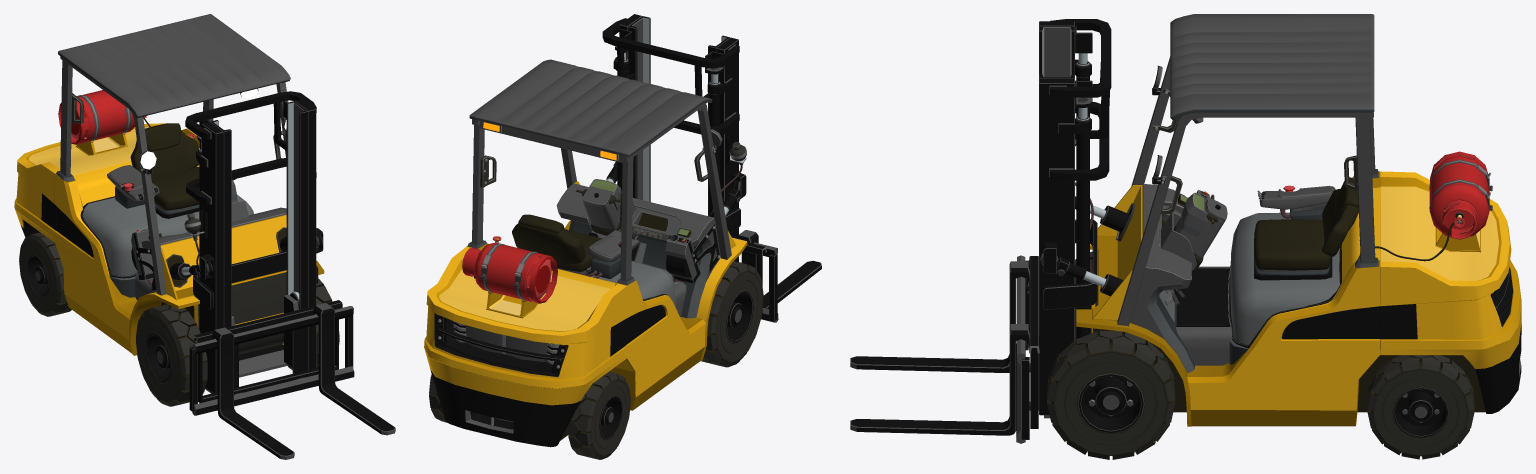
The model's file is lifter.glb.
The picture shows the model from 3 angles, left to right: view 1: azimuth 30°, elevation 25°; view 2: azimuth 150°, elevation 25°; view 3: azimuth 270°, elevation 25°; orthographic projection. The views are drawn at different scales.
Parts seen in each view (by area): view 1: body, lift, wheel_fr, wheel, gaz, wheel_fl; view 2: body, wheel_fr, gaz, wheel, lift; view 3: body, wheel_fl, lift, Cylinder.001, gaz.
Part boxes in pixels (left/top/right/bottom): body: left=14, top=14, right=324, bottom=393; lift: left=189, top=291, right=395, bottom=459; wheel_fr: left=135, top=304, right=207, bottom=406; wheel: left=19, top=232, right=71, bottom=316; gaz: left=58, top=90, right=146, bottom=144; wheel_fl: left=288, top=278, right=339, bottom=369; body: left=424, top=14, right=747, bottom=447; wheel_fr: left=701, top=261, right=763, bottom=367; gaz: left=462, top=242, right=557, bottom=303; wheel: left=568, top=372, right=630, bottom=459; lift: left=739, top=230, right=821, bottom=322; body: left=1039, top=14, right=1521, bottom=426; wheel_fl: left=1047, top=331, right=1175, bottom=459; lift: left=850, top=255, right=1039, bottom=443; Cylinder.001: left=1367, top=355, right=1474, bottom=459; gaz: left=1429, top=151, right=1492, bottom=239.
Size of the model in its own units: 1.07 by 1.79 by 3.03.
